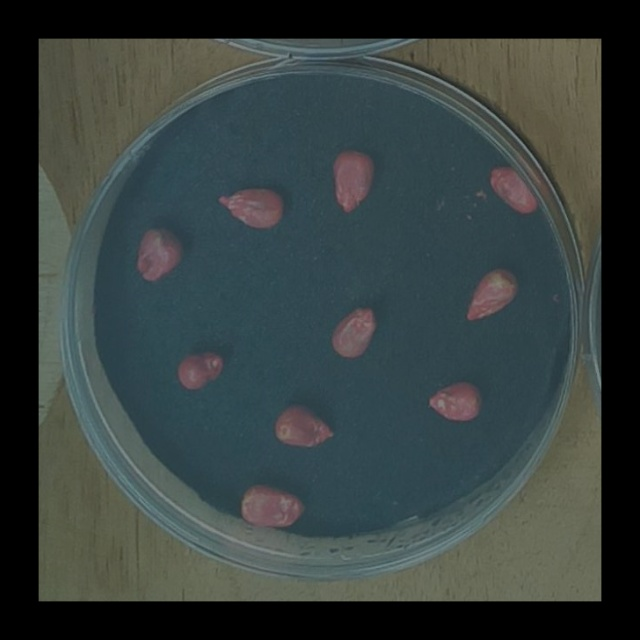Zea mays: (459, 261, 524, 326), (327, 142, 381, 218), (213, 181, 289, 235), (236, 478, 310, 533), (269, 398, 341, 451), (130, 223, 188, 286), (327, 300, 384, 363), (485, 159, 544, 219), (423, 375, 490, 427), (173, 343, 230, 394)
